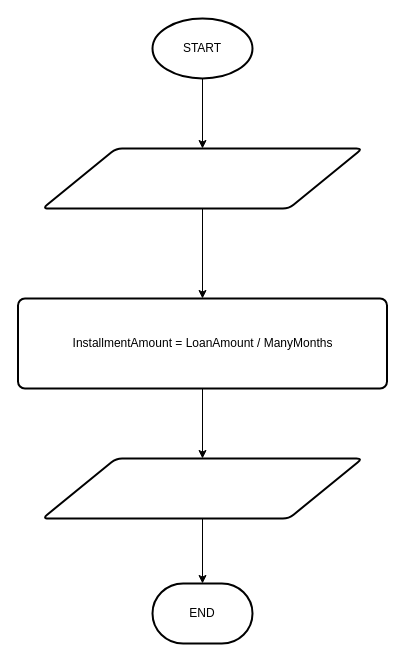
The diagram is 405 pixels wide and 661 high, and some of its shapes have lost their labels. The shapes that lost their labels are listed below. From the top down, each one's centre as x and y in pixels, then its label:
At (x=202, y=178): "READ LoanAmount , ManyMonths".
At (x=202, y=488): "PRINT InstallmentAmount".
